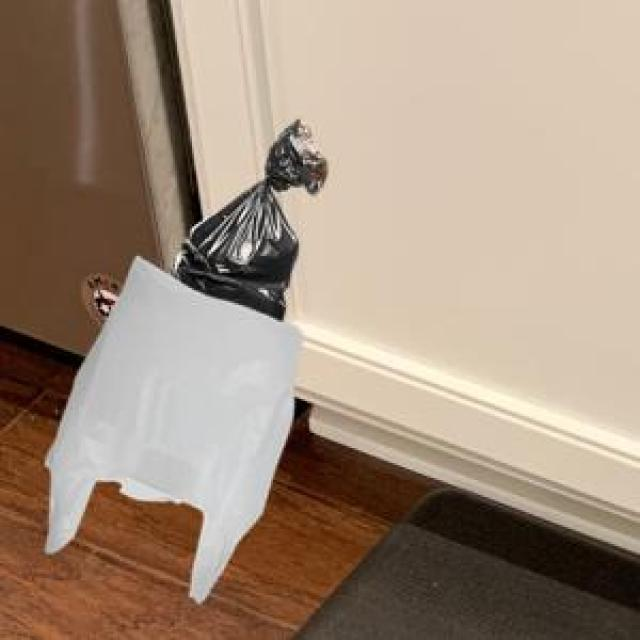miscellaneous trash: (164, 115, 322, 318)
